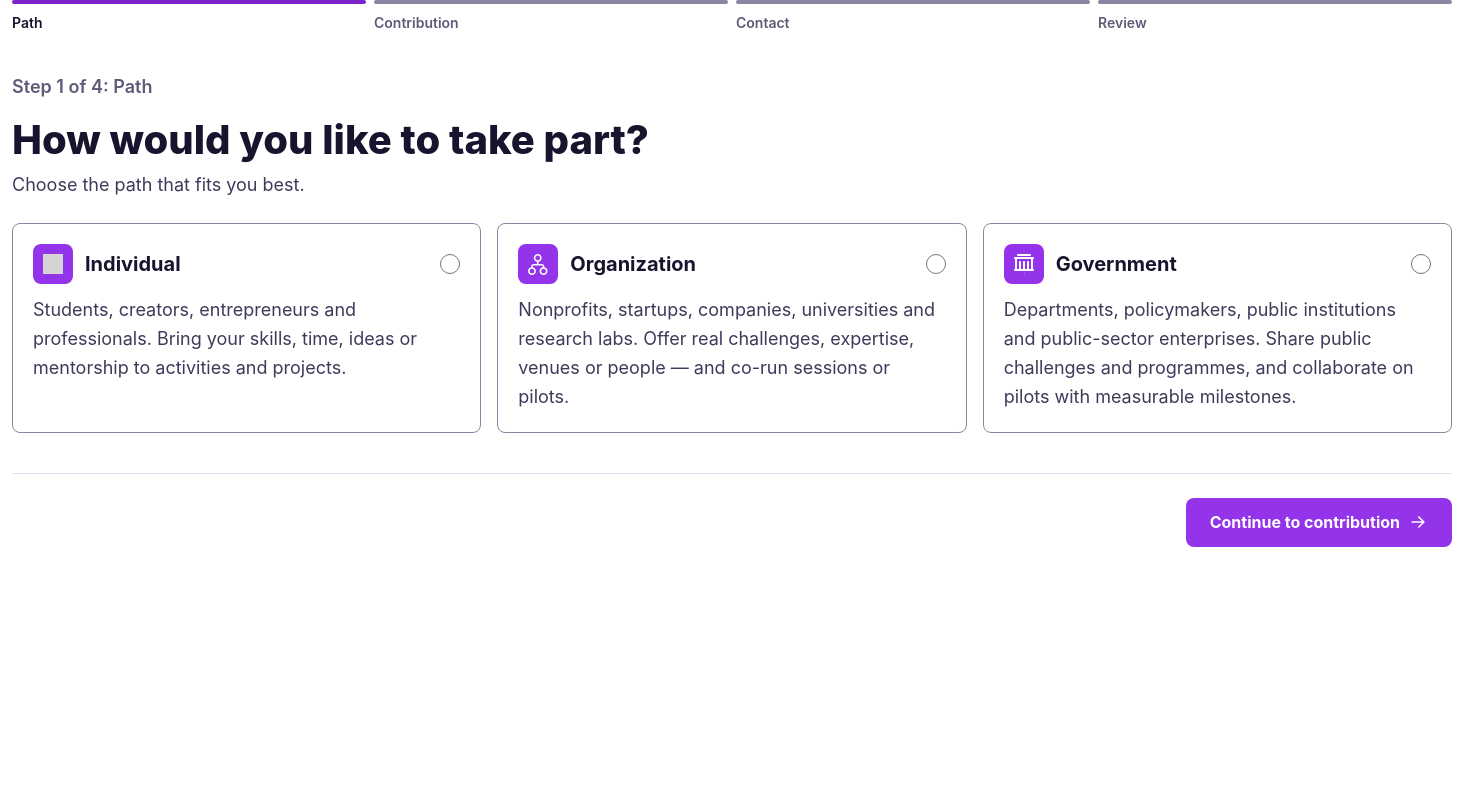
it: JoinFlow › shows a focused error summary when continuing without a choice
This screenshot has width=1464, height=810.
Click the button "Continue to contribution". click: (1319, 522)
box: [1186,498,1452,547]
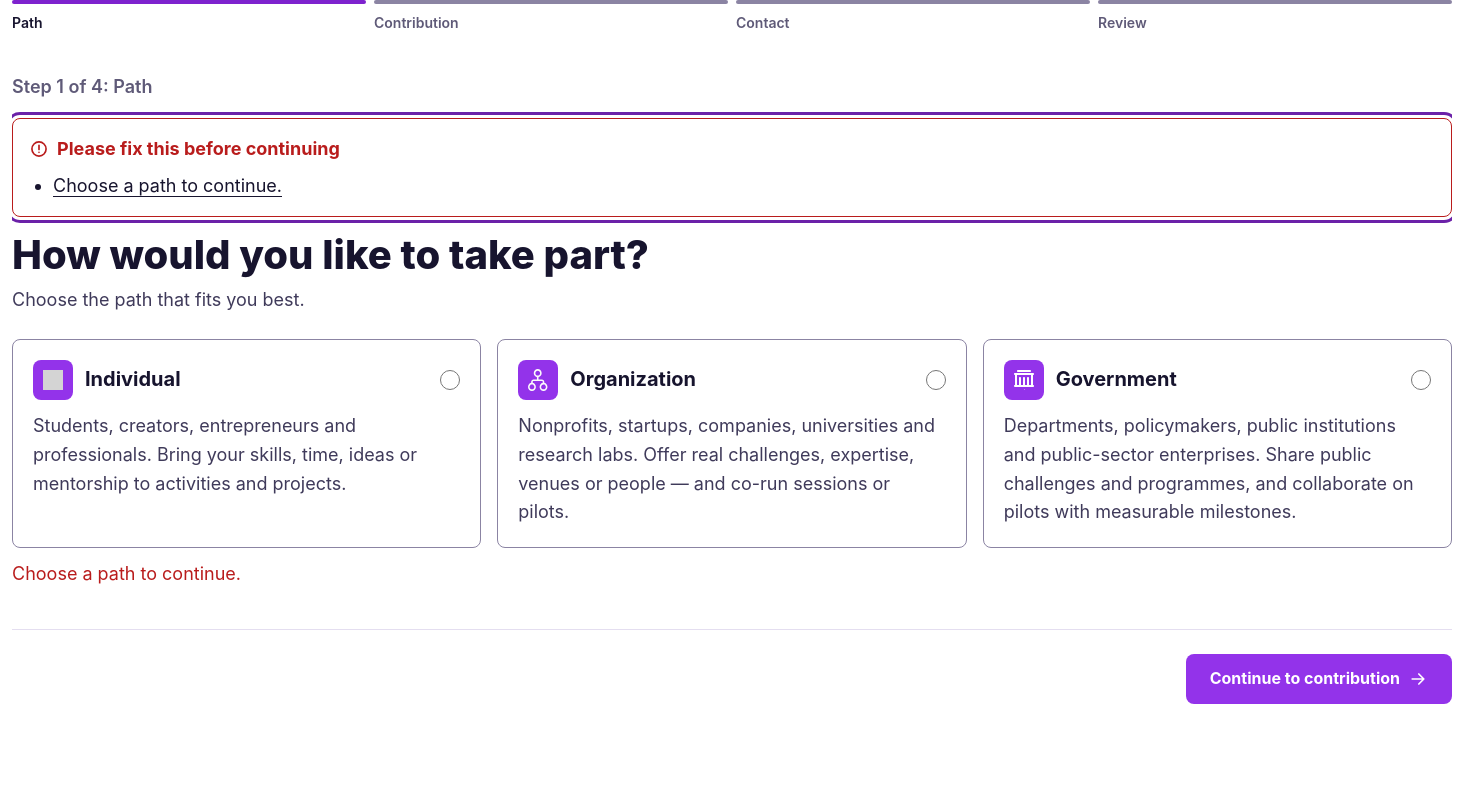
Result: the message shows "Choose a path to continue." at [53,175,282,196]
